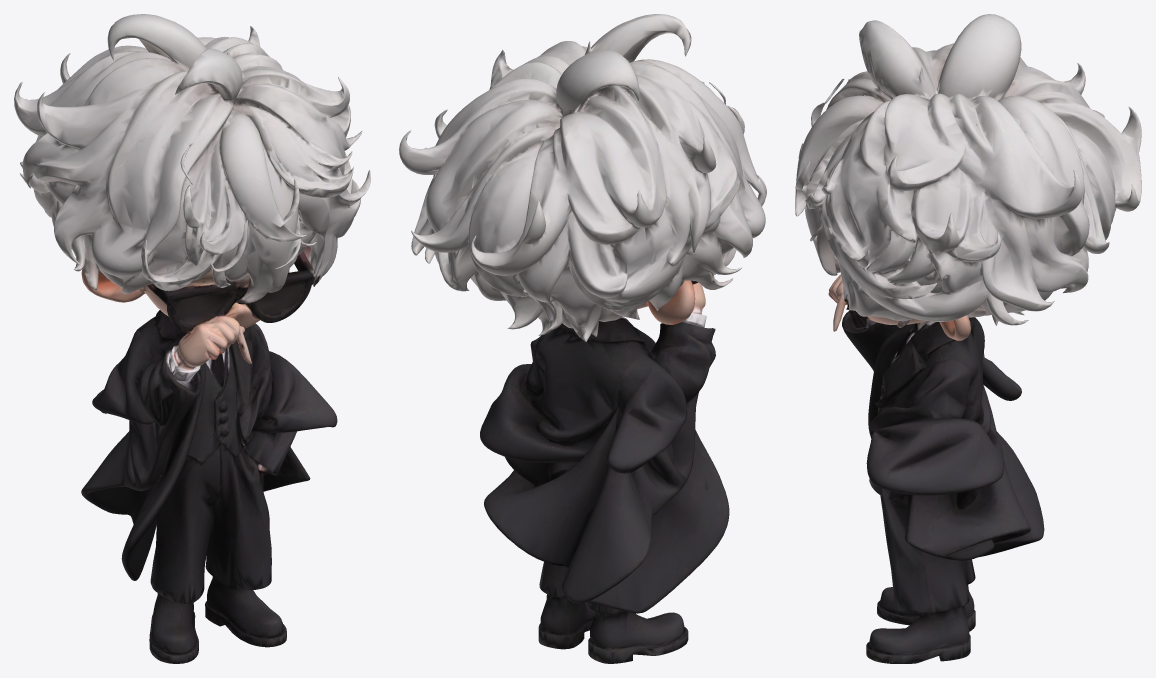
Rendered from agent.glb.
3 renders of one model, left to right at view 1: azimuth 30°, elevation 25°; view 2: azimuth 150°, elevation 25°; view 3: azimuth 270°, elevation 25°, orthographic. The views are drawn at different scales.
Parts seen in each view (by area): view 1: node_0; view 2: node_0; view 3: node_0.
Boxes of the visible parts, <box> form: node_0: <box>14,14,370,663</box>; node_0: <box>399,14,766,663</box>; node_0: <box>795,14,1141,663</box>.
Size of the model in its own units: 0.5988 by 1.14 by 0.5966.
Materials: 1 (1 with a texture image).
